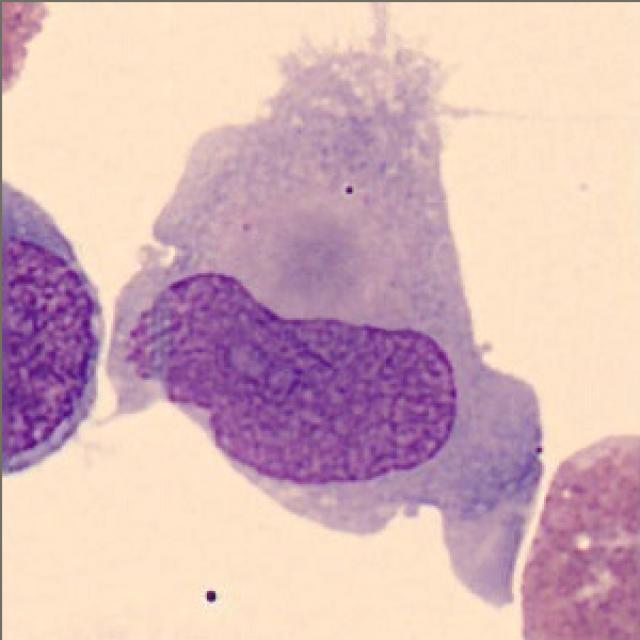White Blood Cell: (110, 15, 540, 603), (2, 184, 91, 469), (525, 436, 640, 639), (2, 4, 48, 87)
